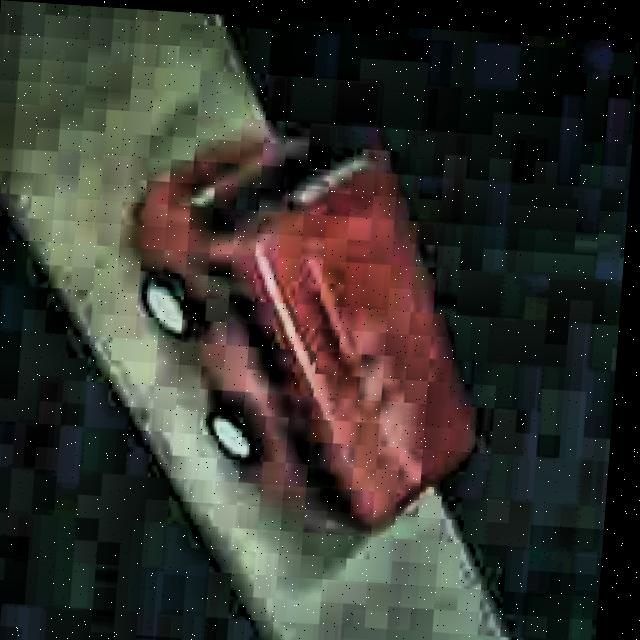bus: (105, 132, 495, 539)
